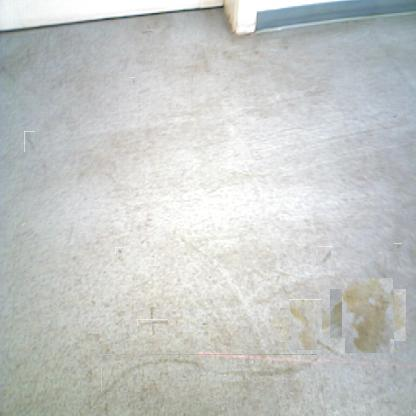liquid: (336, 284, 400, 348), (284, 304, 327, 346), (317, 338, 345, 358)
mark: (101, 354, 317, 392), (143, 313, 162, 332), (317, 247, 334, 265), (272, 264, 288, 281), (24, 131, 35, 152), (136, 85, 148, 97), (144, 26, 154, 36), (390, 112, 398, 120), (395, 243, 402, 251), (116, 247, 123, 254), (130, 77, 135, 86)
